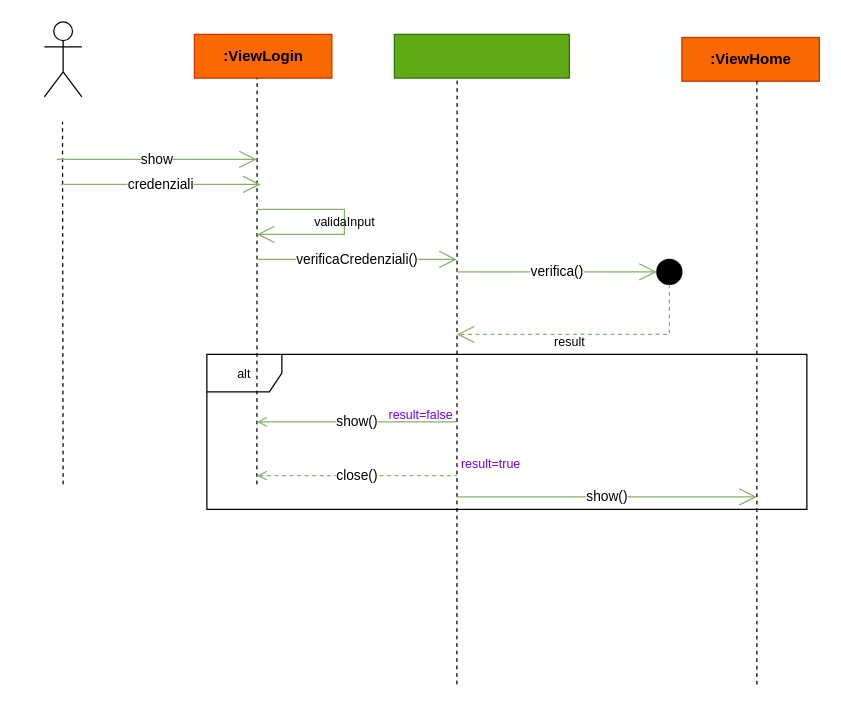
Image size: 841x708. Some labels were removed from this diagram. The shapes that lost their labels are listed below. From the top down, each one's centre as x and y in pixels, then its label:
At point (62, 59): "Nutrizionista".
At point (481, 55): ":LoginController".
